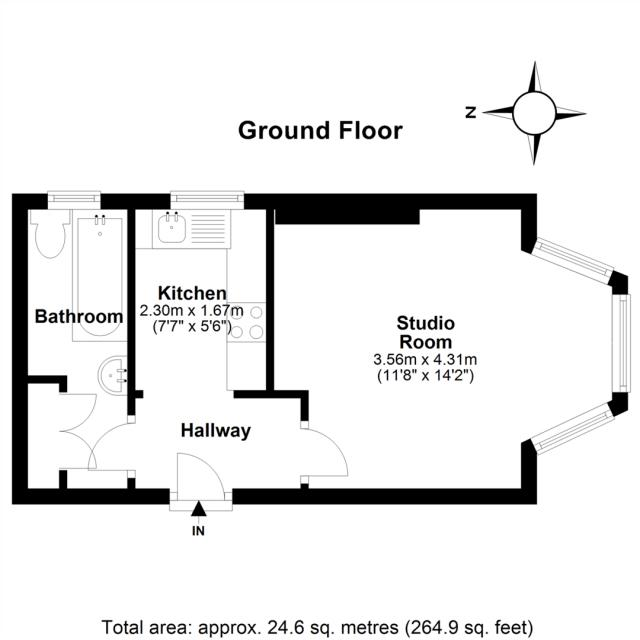DOOR: (298, 427, 351, 479), (86, 421, 137, 473), (175, 452, 227, 503)
ROOM: (265, 193, 632, 505), (86, 190, 350, 512)
WINDOW: (528, 401, 617, 457), (530, 235, 616, 286), (611, 293, 631, 394), (169, 189, 246, 211), (46, 190, 102, 211)
